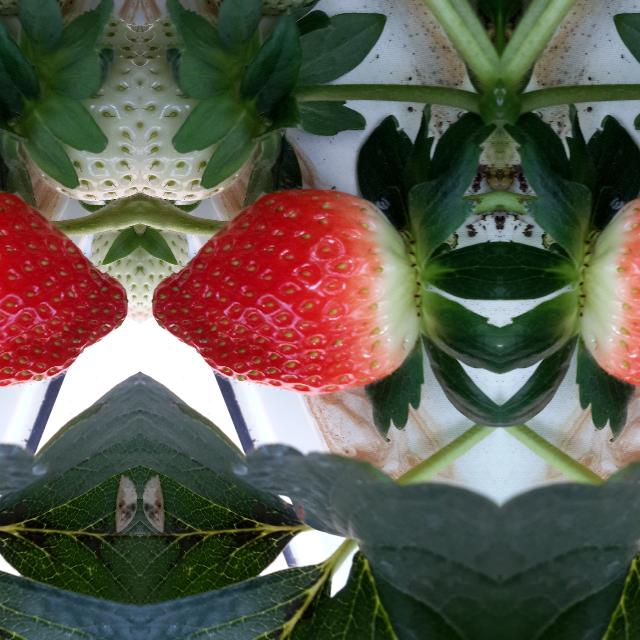Health_100: (150, 190, 418, 394), (0, 189, 130, 394), (581, 189, 640, 394)
